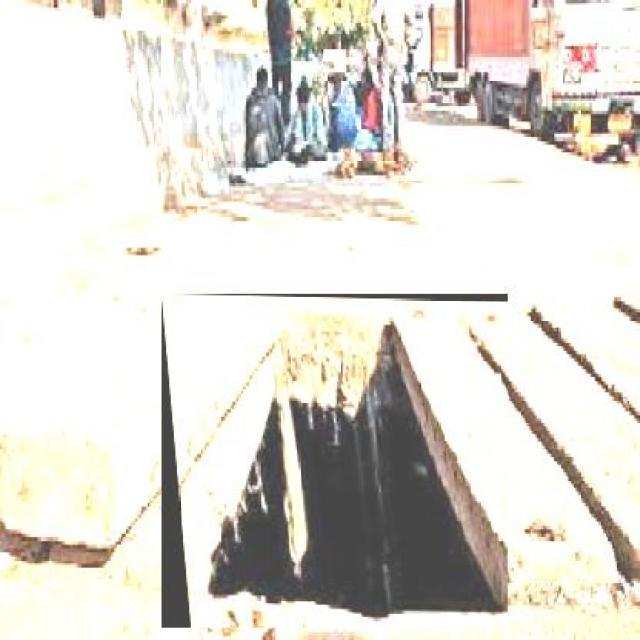Open Manhole: (162, 294, 508, 628)
